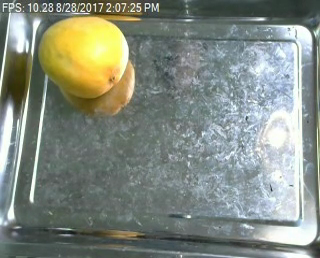Mango: (38, 15, 126, 97)
